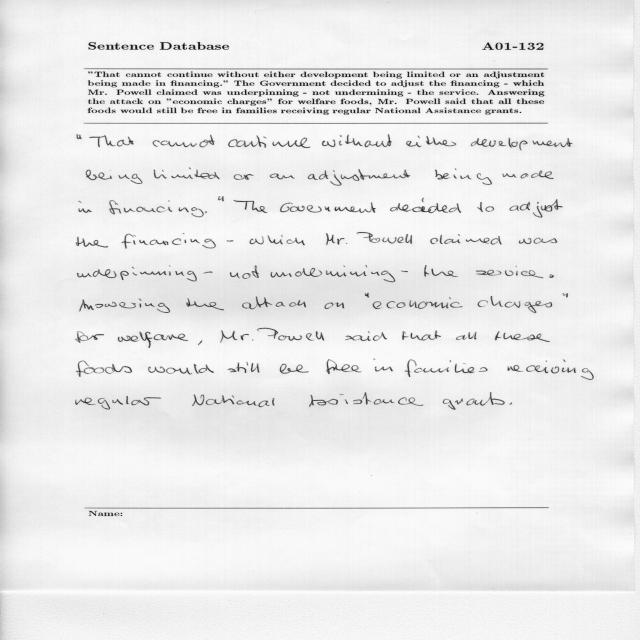word: (271, 265, 395, 282), (77, 265, 197, 282), (508, 359, 594, 380), (308, 169, 410, 186), (109, 201, 204, 218), (309, 393, 423, 407), (122, 233, 216, 249), (405, 359, 487, 377), (79, 298, 170, 313), (478, 296, 552, 313), (471, 138, 572, 150), (118, 331, 188, 348), (75, 396, 161, 409), (443, 392, 505, 410), (373, 297, 463, 309), (192, 395, 275, 408), (390, 198, 461, 213), (280, 202, 376, 213), (510, 199, 563, 218), (228, 136, 310, 148), (435, 168, 492, 185), (322, 135, 392, 148), (76, 361, 132, 377), (257, 328, 324, 341), (86, 169, 143, 184), (242, 297, 306, 310), (476, 266, 544, 278), (430, 234, 502, 245), (153, 135, 215, 147), (154, 168, 220, 179), (357, 232, 412, 244), (148, 364, 214, 374), (495, 331, 550, 342), (406, 136, 456, 147), (250, 235, 305, 245), (89, 135, 134, 147), (326, 359, 362, 374), (503, 170, 554, 179), (186, 298, 224, 310), (234, 200, 268, 213), (220, 330, 253, 343), (345, 331, 387, 341), (424, 265, 458, 277), (230, 265, 259, 279), (402, 331, 441, 341), (76, 237, 108, 248), (228, 362, 260, 373), (76, 331, 104, 343), (280, 364, 309, 374), (326, 233, 347, 245), (373, 359, 393, 371), (519, 238, 557, 244), (477, 202, 494, 212), (456, 332, 477, 340), (79, 201, 92, 213), (270, 174, 295, 180), (325, 302, 345, 309), (234, 174, 254, 180), (218, 197, 224, 201), (198, 340, 202, 346), (77, 135, 82, 139), (549, 274, 554, 278), (563, 293, 568, 297), (204, 272, 213, 274), (365, 293, 369, 297), (227, 240, 233, 242), (401, 271, 408, 272), (510, 403, 513, 405), (205, 211, 207, 213)
